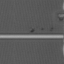dust: (40, 26, 44, 31), (30, 28, 34, 32), (49, 27, 53, 31)
